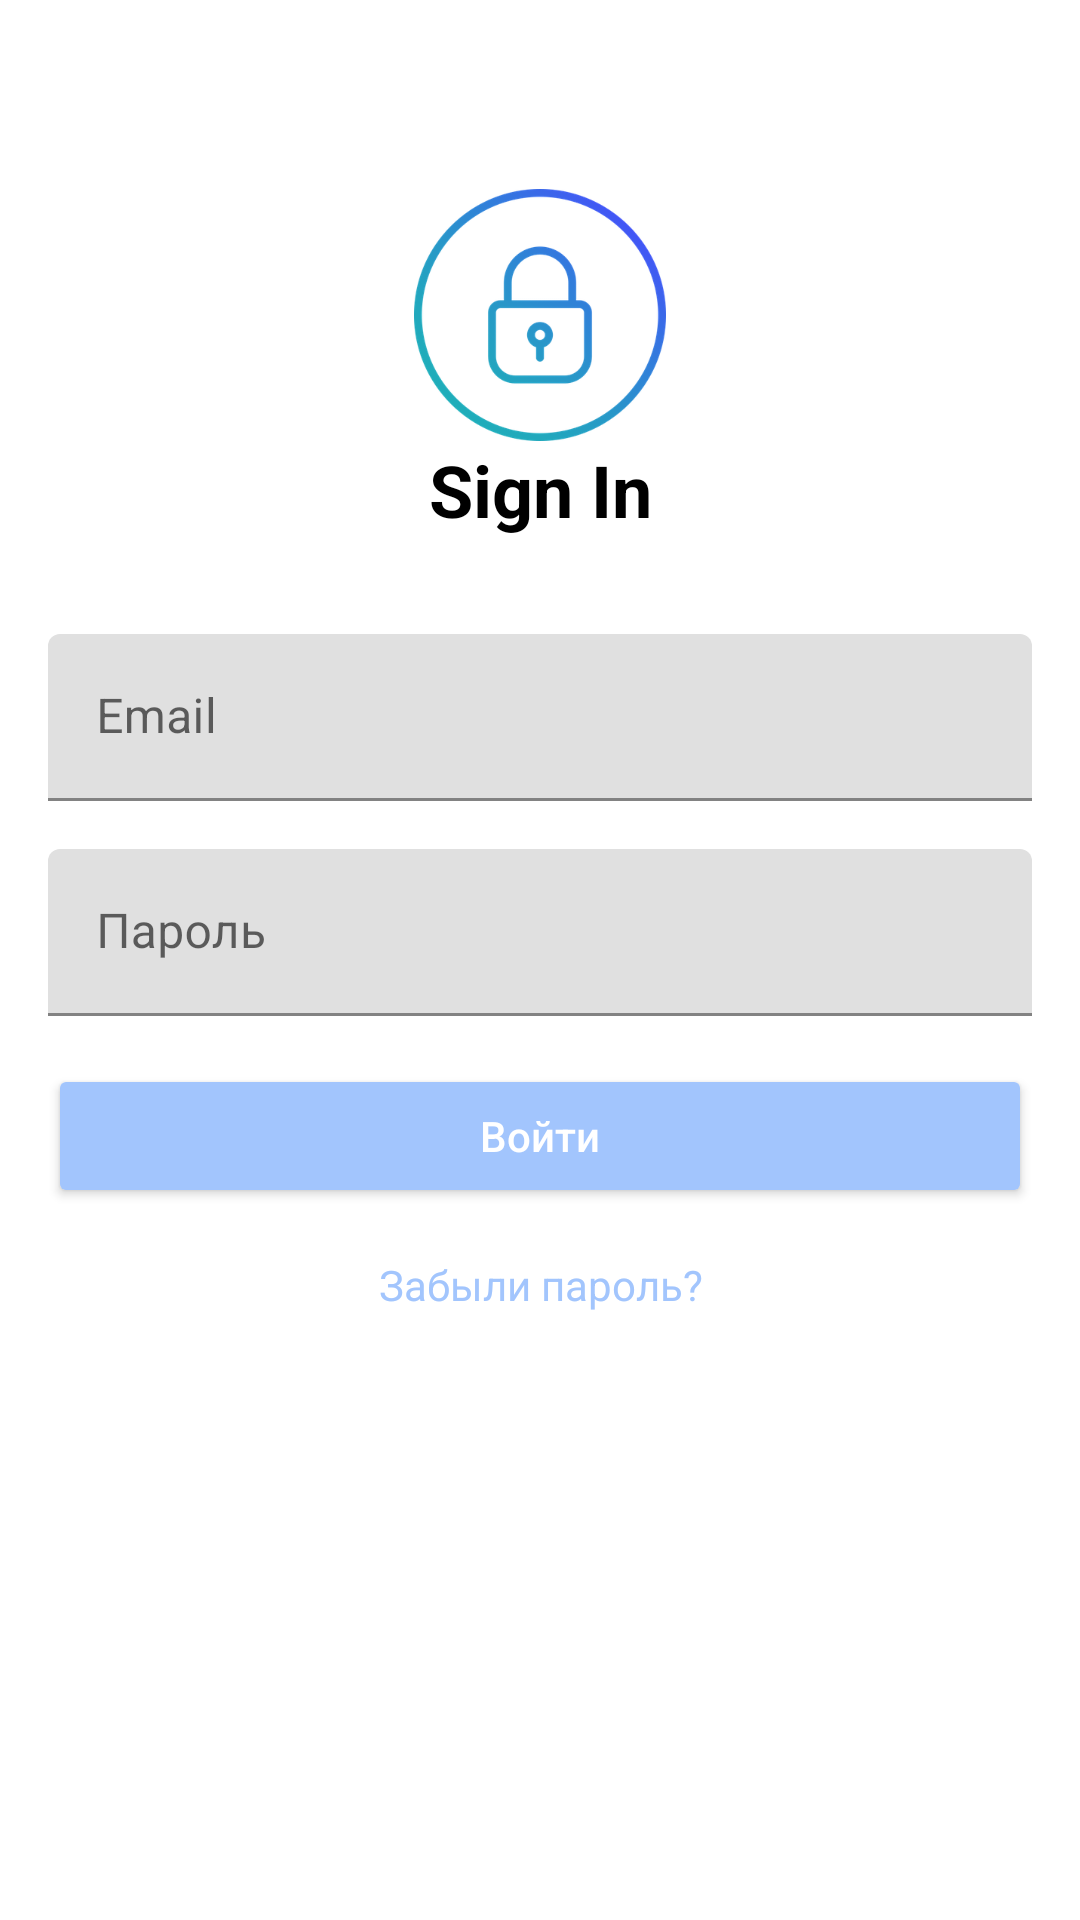

Where icons sit on this 1080px x 1920px app screen, as (x1, y1, x2, y2):
locked: (414, 189, 666, 441)
